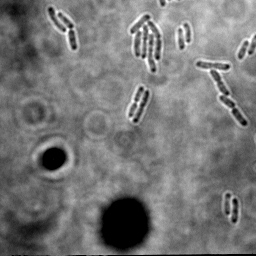Dividing: (126, 85, 145, 119), (209, 68, 231, 96), (196, 59, 231, 70)
Microcolony: (128, 13, 163, 74)
Rod: (131, 88, 151, 124), (46, 5, 68, 33), (236, 38, 251, 61), (56, 11, 75, 29), (231, 107, 248, 127), (229, 197, 241, 225), (67, 28, 79, 51), (218, 94, 236, 109), (182, 21, 193, 44), (176, 27, 186, 51), (223, 191, 232, 217)
